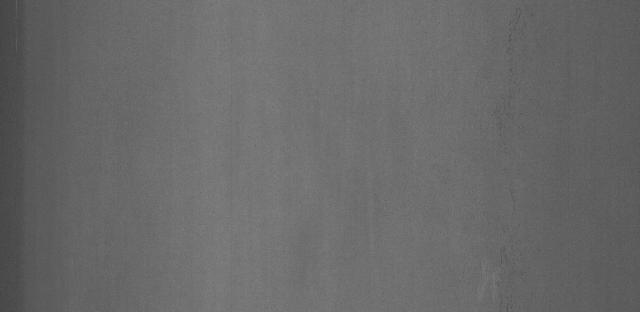silk_spot: (463, 221, 537, 310)
